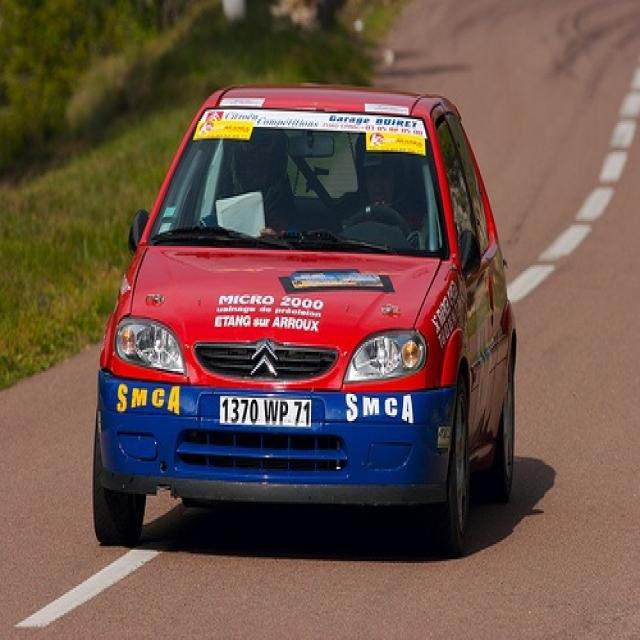car: (87, 81, 517, 555)
